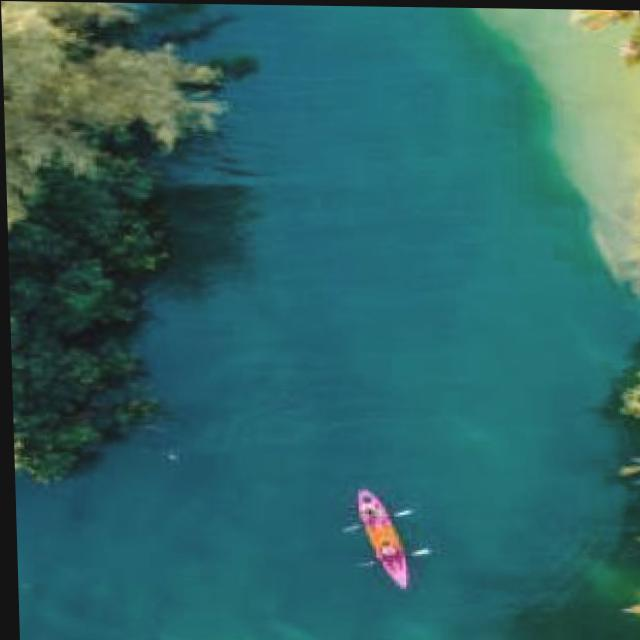kayak: (184, 278, 390, 630), (358, 488, 408, 586)
